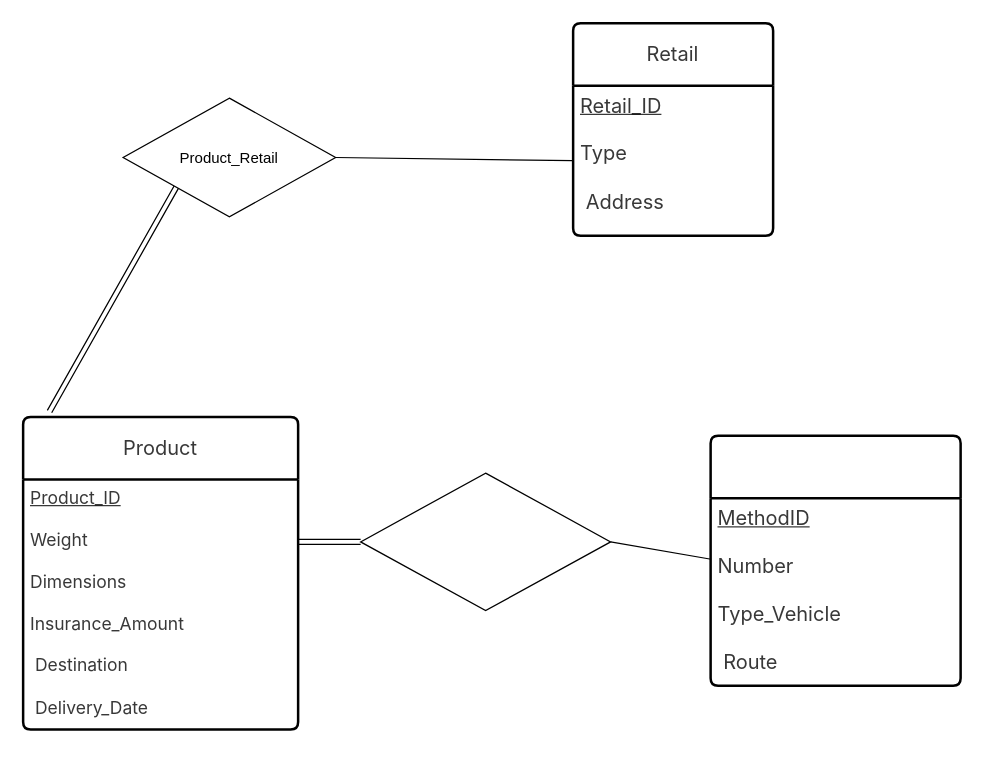
Image size: 983x764. Some labels were removed from this diagram. The box of each missing label's shape, as (x1, y1, x2, y2) in pixels:
Product_Transport: (359, 472, 611, 611)
Transportation_Method: (709, 434, 961, 686)
